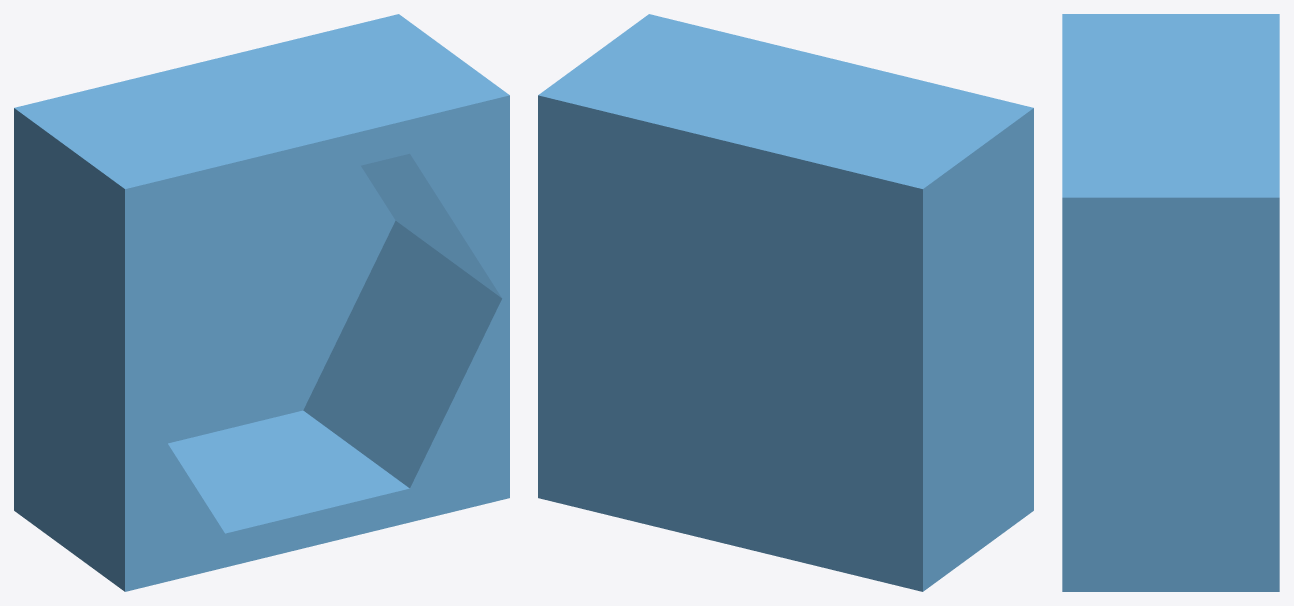
The model's file is halfcube.glb.
The picture shows the model from 3 angles, left to right: view 1: azimuth 30°, elevation 25°; view 2: azimuth 150°, elevation 25°; view 3: azimuth 270°, elevation 25°; orthographic projection. The views are drawn at different scales.
Bounding box in the file's own units: 100 × 100 × 50.
